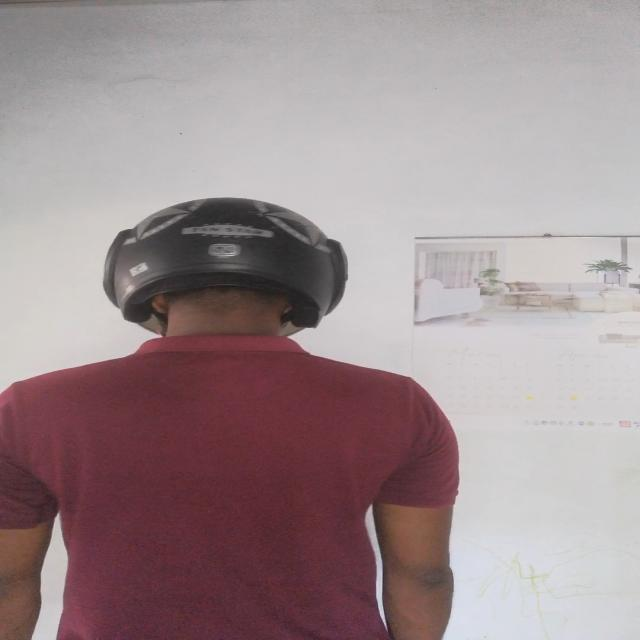Helmet_Wearer: (73, 194, 366, 388)
